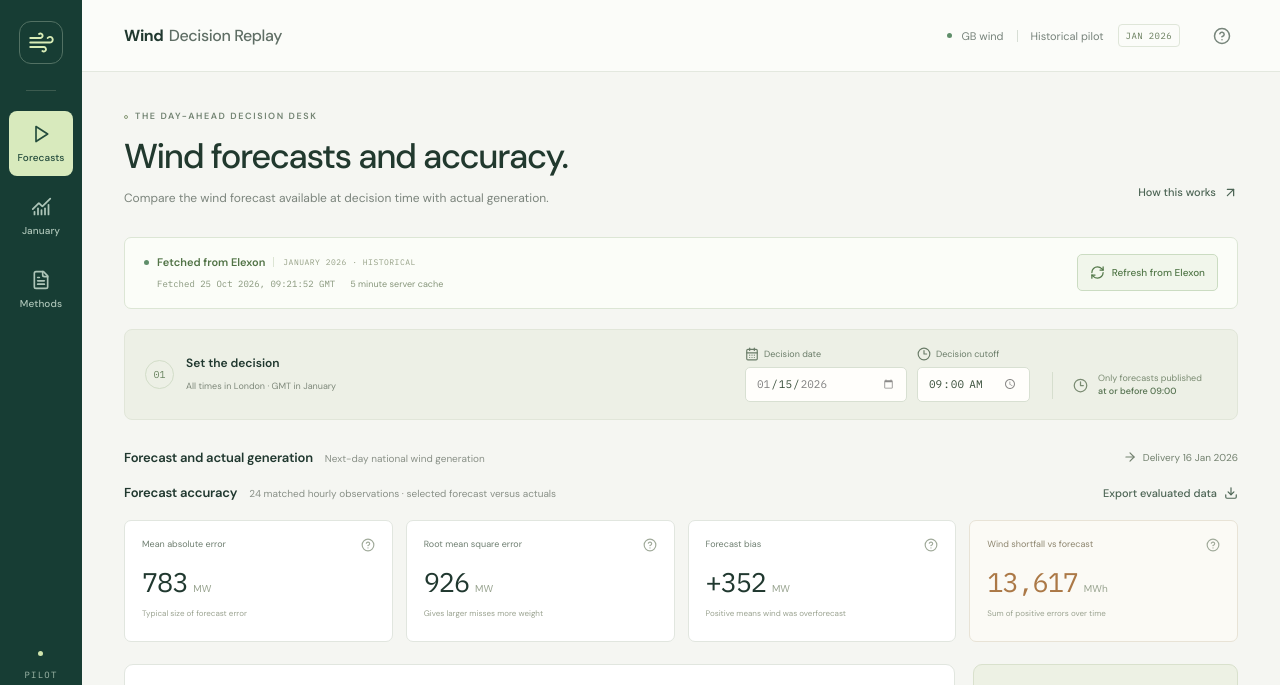
Test: retains the last successful dataset and exposes a failed manual refresh
Check: the text "783" is shown, box 142,564 -> 187,599
Click the button "Refresh from Elexon": (1147, 273) 1077,254 -> 1218,291
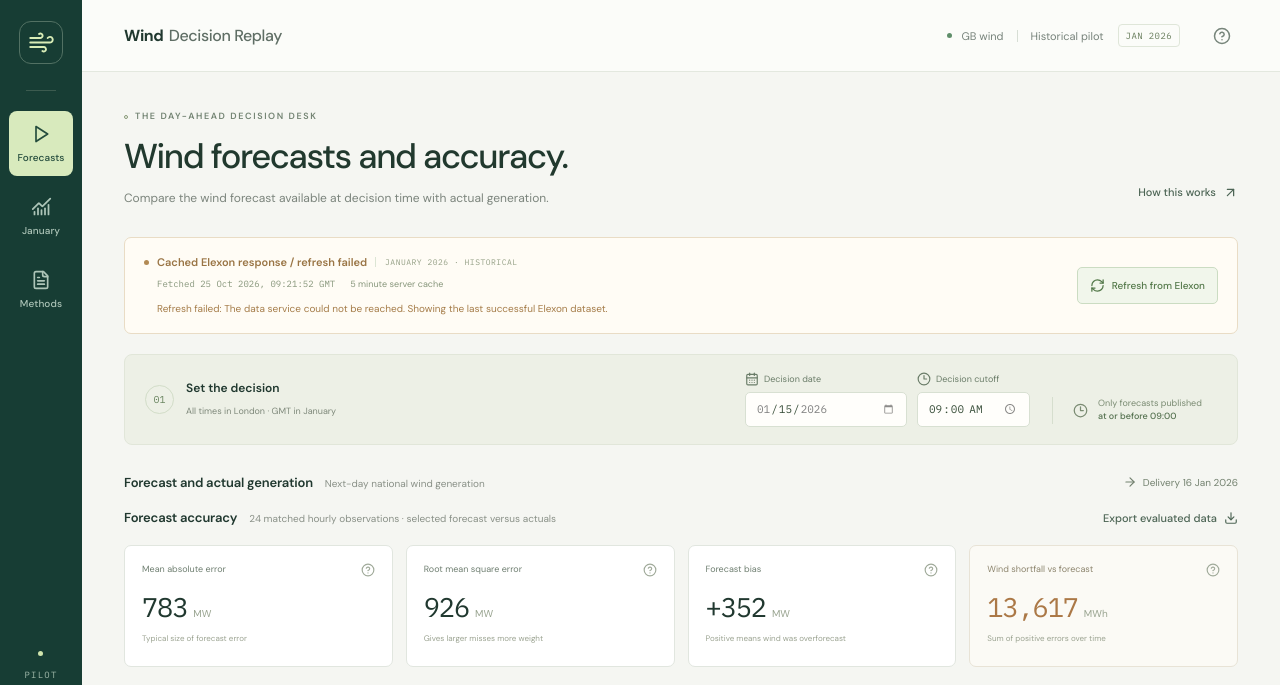
Check: the text "783" is shown, box 142,589 -> 187,624
Check: the message shows "Refresh failed", box 157,302 -> 608,315
Check: the text "Cached Elexon response / refresh failed" is shown, box 157,254 -> 367,270
